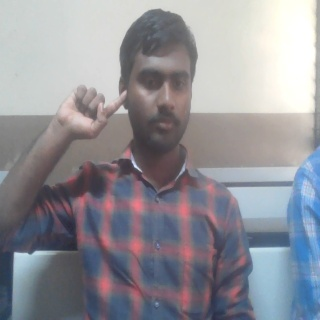Deaf: (52, 83, 128, 141)
Face: (116, 7, 200, 160)
